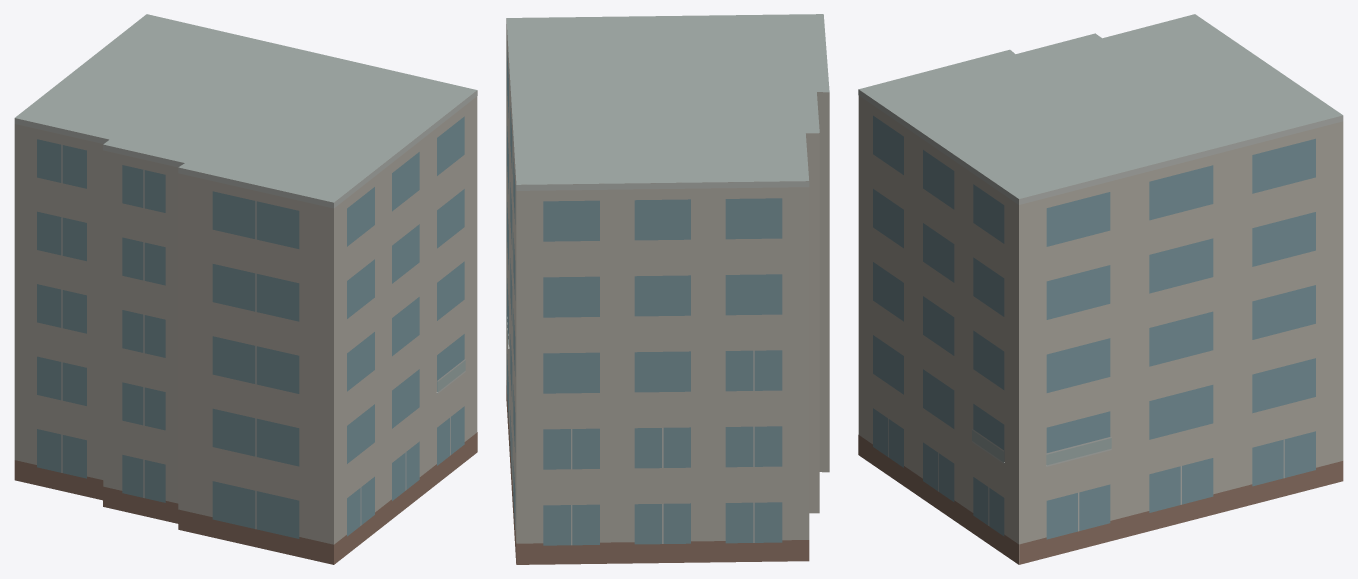
The model's file is survey-upis-32876232.glb.
The picture shows the model from 3 angles, left to right: view 1: azimuth 30°, elevation 25°; view 2: azimuth 150°, elevation 25°; view 3: azimuth 270°, elevation 25°; orthographic projection. The views are drawn at different scales.
Visible parts, largest first — view 1: survey-upis-32876232.tmp; view 2: survey-upis-32876232.tmp; view 3: survey-upis-32876232.tmp.
Part boxes in pixels (x1,y1,x2,y2): survey-upis-32876232.tmp: (14, 14, 477, 564); survey-upis-32876232.tmp: (506, 14, 829, 564); survey-upis-32876232.tmp: (858, 14, 1343, 564).
Size of the model in its own units: 16.4 by 15.1 by 18.15.
